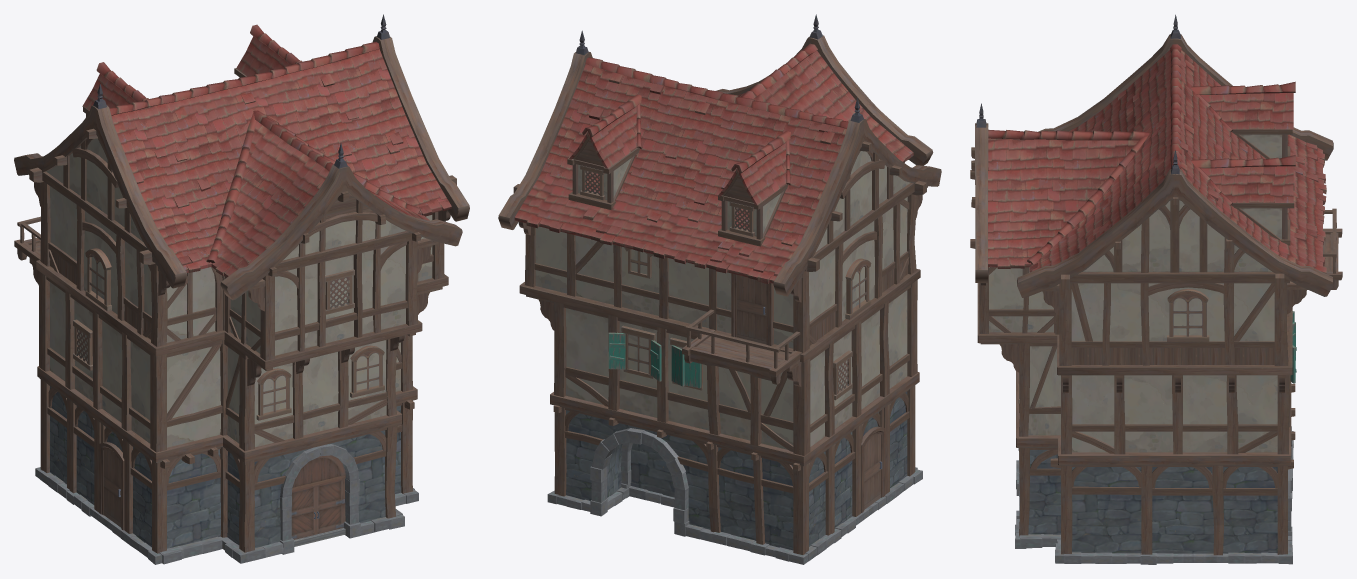
The model's file is Homeworld_Exterior_Md_Build_House_02_Lod0.fbx.
The picture shows the model from 3 angles, left to right: view 1: azimuth 30°, elevation 25°; view 2: azimuth 150°, elevation 25°; view 3: azimuth 270°, elevation 25°; orthographic projection. The views are drawn at different scales.
Visible parts, largest first — view 1: Area_MdBuild_House37_Lod0; view 2: Area_MdBuild_House37_Lod0; view 3: Area_MdBuild_House37_Lod0.
Part boxes in pixels (bbox=[...]): Area_MdBuild_House37_Lod0: bbox=[14, 14, 469, 564]; Area_MdBuild_House37_Lod0: bbox=[498, 14, 941, 564]; Area_MdBuild_House37_Lod0: bbox=[970, 14, 1342, 564].
Size of what is drawn, in the model's own units: 12.85 by 17.22 by 13.55.
